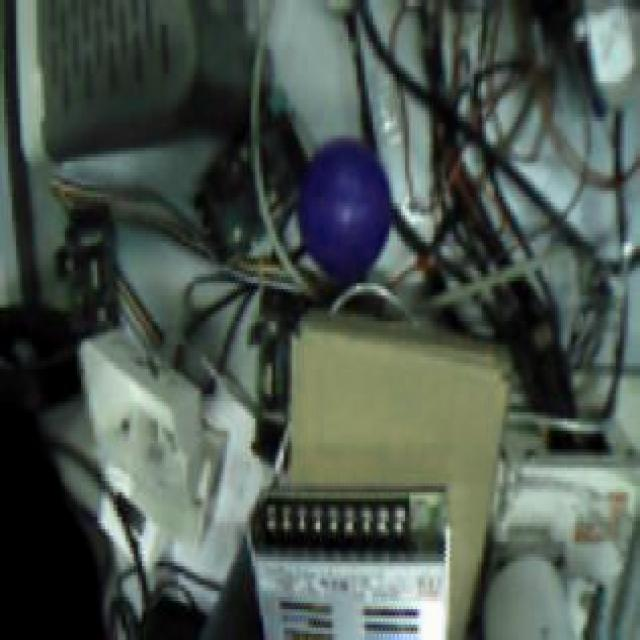BallPurple: (302, 139, 389, 278)
